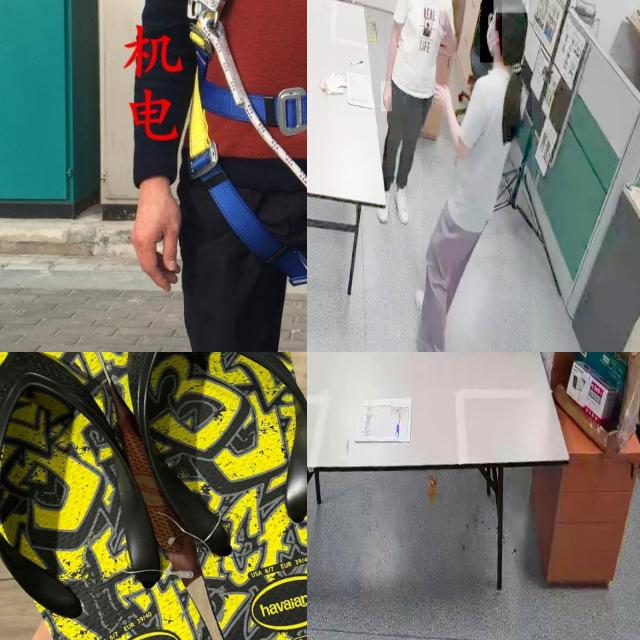Harness: (184, 0, 307, 289)
Sandals: (0, 352, 307, 640)
face_mask: (480, 0, 502, 62)
hand_noglove: (432, 79, 452, 108), (381, 81, 393, 112)
head_nohelmet: (493, 0, 528, 13)
person: (421, 0, 532, 352), (387, 0, 454, 209)
shoes: (391, 182, 410, 229), (376, 180, 392, 228)
